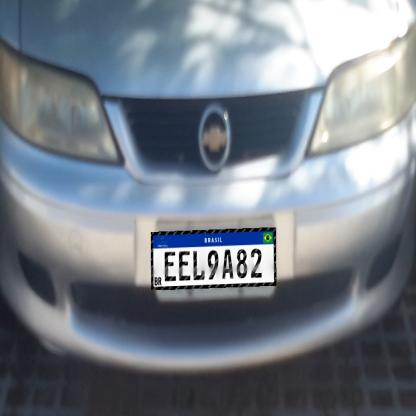PlacaM: (151, 227, 276, 290)
